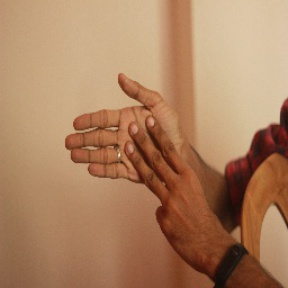M: (64, 71, 199, 212)
